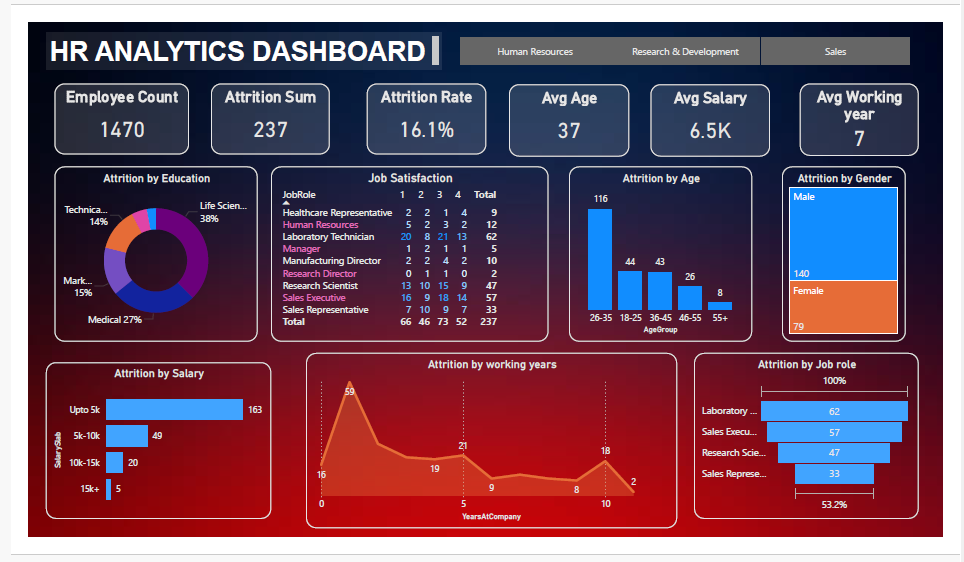

The dashboard page shown, as its layout file describes it:
{"tool":"powerbi","page":{"name":"Page 1","canvas":[1280,720],"ordinal":0},"visuals":[{"type":"card","title":"Employee Count","fields":{"Values":["Sum(HR_Analytics.EmployeeCount)"]},"box":[37,85.8,188.4,99.2],"z":0},{"type":"card","title":"Avg Salary","fields":{"Values":["Avg(HR_Analytics.MonthlyIncome)"]},"box":[871.3,87.5,166.5,100.9],"z":1000},{"type":"card","title":"Avg Age","fields":{"Values":["Avg(HR_Analytics.Age)"]},"box":[672.8,87.5,168.2,100.9],"z":2000},{"type":"card","title":"Attrition Rate","fields":{"Values":["HR_Analytics.AttritionRate"]},"box":[474.3,85.8,166.5,99.2],"z":3000},{"type":"card","title":"Attrition Sum","fields":{"Values":["Sum(HR_Analytics.Attrition_Count)"]},"box":[255.7,85.8,166.5,99.2],"z":4000},{"type":"card","title":"Avg Working year","fields":{"Values":["Avg(HR_Analytics.YearsAtCompany)"]},"box":[1079.8,85.8,166.5,100.9],"z":5000},{"type":"donutChart","title":"Attrition by Education","fields":{"Category":["HR_Analytics.EducationField"],"Y":["Sum(HR_Analytics.Attrition_Count)"]},"box":[37,201.8,284.3,245.6],"z":6000},{"type":"columnChart","title":"Attrition by Age","fields":{"Category":["HR_Analytics.AgeGroup"],"Y":["Sum(HR_Analytics.Attrition_Count)"]},"box":[756.9,201.8,255.7,245.6],"z":7000},{"type":"pivotTable","title":"Job Satisfaction","fields":{"Rows":["HR_Analytics.JobRole"],"Columns":["HR_Analytics.JobSatisfaction"],"Values":["Sum(HR_Analytics.Attrition_Count)"]},"box":[339.8,201.8,388.5,245.6],"z":8000},{"type":"barChart","title":"Attrition by Salary","fields":{"Category":["HR_Analytics.SalarySlab"],"Y":["Sum(HR_Analytics.Attrition_Count)"]},"box":[25.2,476,314.5,218.7],"z":9000},{"type":"funnel","title":"Attrition by Job role","fields":{"Category":["HR_Analytics.JobRole"],"Y":["Sum(HR_Analytics.Attrition_Count)"]},"box":[931.8,462.5,314.5,232.1],"z":10000},{"type":"areaChart","title":"Attrition by working years","fields":{"Category":["HR_Analytics.YearsAtCompany"],"Y":["Sum(HR_Analytics.Attrition_Count)"]},"box":[388.5,462.5,519.7,245.6],"z":11000},{"type":"treemap","title":"Attrition by Gender","fields":{"Values":["Sum(HR_Analytics.Attrition_Count)"],"Group":["HR_Analytics.Gender"]},"box":[1054.6,201.8,173.2,245.6],"z":12000},{"type":"slicer","fields":{"Values":["HR_Analytics.Department"]},"box":[578.6,15.1,679.5,50.5],"z":13000},{"type":"textbox","box":[25.2,15.1,553.4,50.5],"z":14000}]}

Visuals, with their boxes in screenshot pixels (x1, y1, x2, y2):
"Employee Count" card: [left=40, top=74, right=180, bottom=147]
"Avg Salary" card: [left=660, top=75, right=783, bottom=150]
"Avg Age" card: [left=512, top=75, right=637, bottom=150]
"Attrition Rate" card: [left=365, top=74, right=488, bottom=147]
"Attrition Sum" card: [left=202, top=74, right=326, bottom=147]
"Avg Working year" card: [left=815, top=74, right=938, bottom=149]
"Attrition by Education" donutChart: [left=40, top=160, right=251, bottom=342]
"Attrition by Age" columnChart: [left=575, top=160, right=765, bottom=342]
"Job Satisfaction" pivotTable: [left=265, top=160, right=553, bottom=342]
"Attrition by Salary" barChart: [left=31, top=364, right=265, bottom=526]
"Attrition by Job role" funnel: [left=705, top=354, right=938, bottom=526]
"Attrition by working years" areaChart: [left=301, top=354, right=687, bottom=536]
"Attrition by Gender" treemap: [left=796, top=160, right=924, bottom=342]
slicer - HR_Analytics.Department: [left=442, top=21, right=947, bottom=59]
textbox: [left=31, top=21, right=442, bottom=59]
